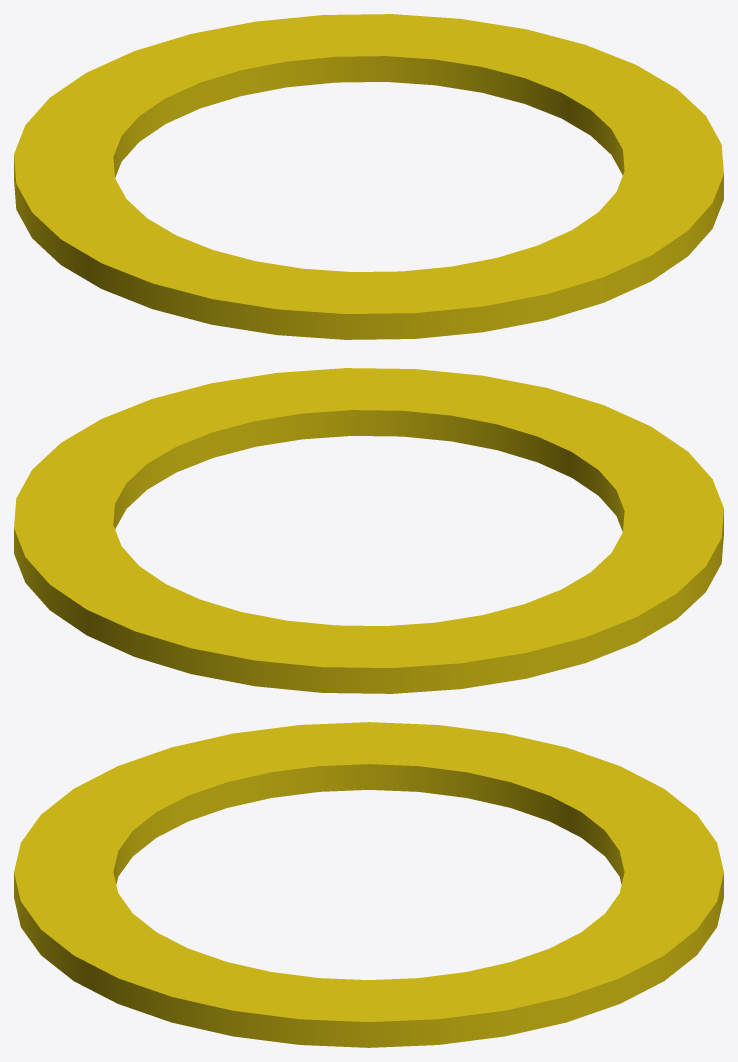
The model's file is stock-ring.fbx.
3 renders of one model, top to bottom at view 1: azimuth 30°, elevation 25°; view 2: azimuth 150°, elevation 25°; view 3: azimuth 270°, elevation 25°, orthographic.
Visible parts, largest first — view 1: Yellow; view 2: Yellow; view 3: Yellow.
Part boxes in pixels (box(x1,y1,x2,y2)): Yellow: box(14, 14, 723, 339); Yellow: box(14, 368, 723, 693); Yellow: box(14, 722, 723, 1047).
Bounding box in the file's own units: 25 × 1 × 25.
